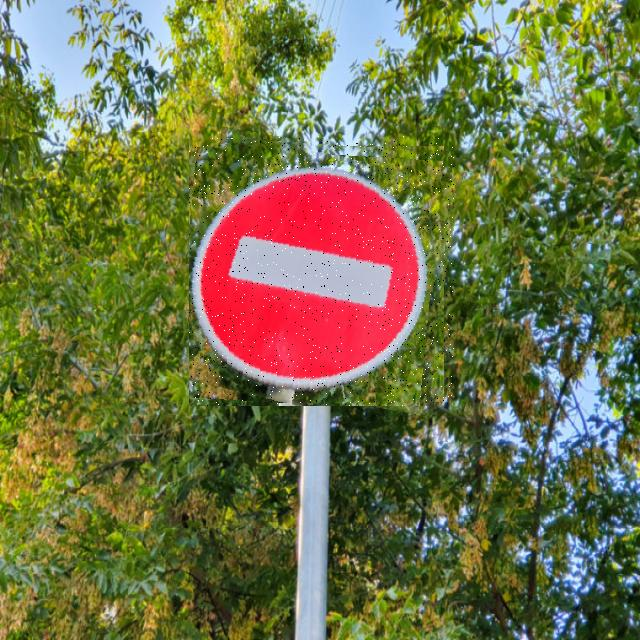no entry: (189, 136, 454, 406)
